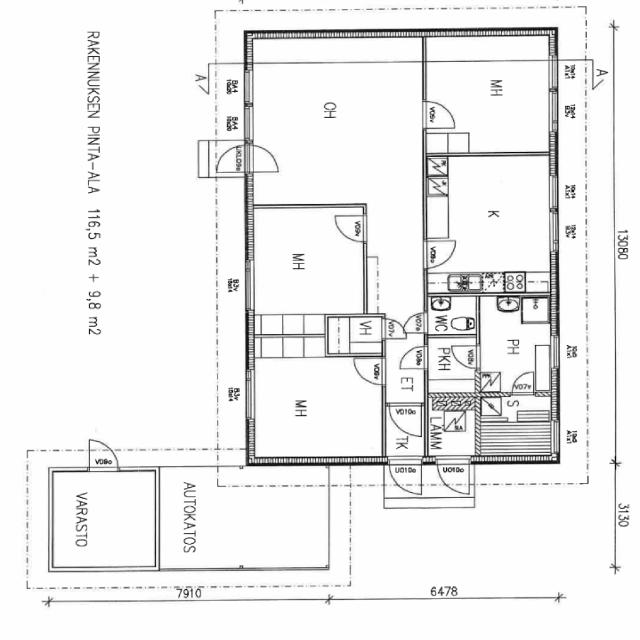door: (389, 456, 422, 494), (438, 456, 470, 494), (389, 403, 421, 436), (245, 145, 283, 172), (216, 145, 254, 172), (423, 101, 456, 128), (353, 358, 386, 385), (423, 241, 455, 268), (90, 438, 118, 468), (335, 216, 367, 242), (399, 346, 427, 368), (452, 346, 480, 368), (401, 312, 427, 333), (512, 372, 534, 396), (382, 319, 408, 339)
